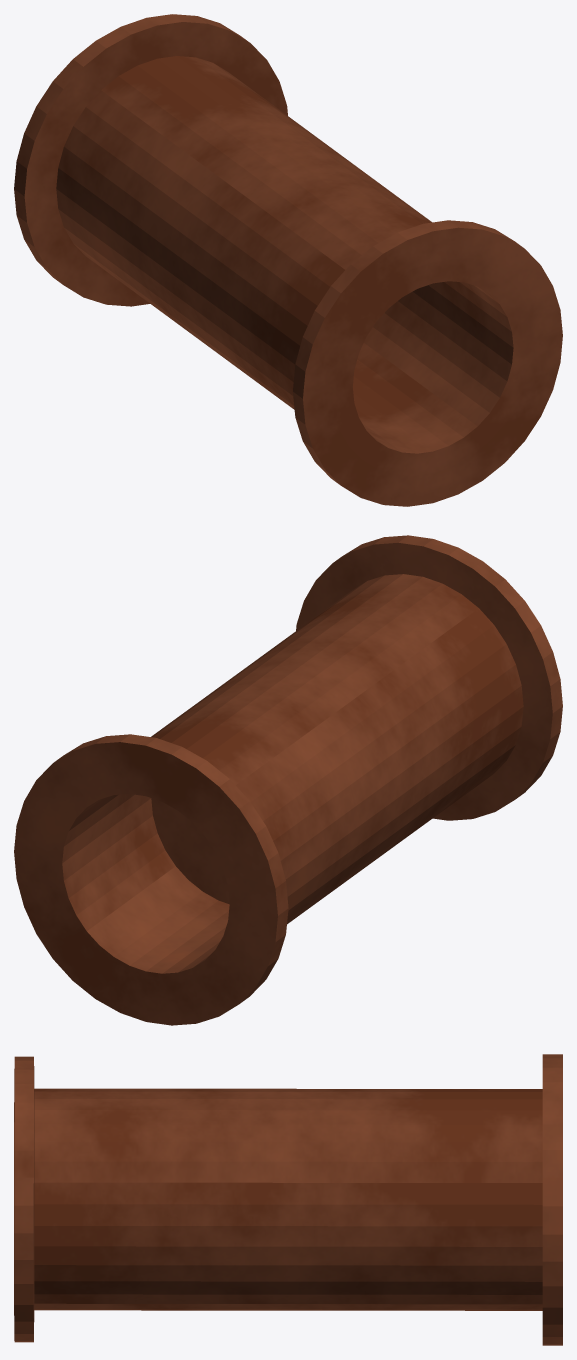
The model's file is Two end short straight pipe.glb.
3 renders of one model, top to bottom at view 1: azimuth 30°, elevation 25°; view 2: azimuth 150°, elevation 25°; view 3: azimuth 270°, elevation 25°, orthographic. The views are drawn at different scales.
Parts seen in each view (by area): view 1: Two end short straight pipe; view 2: Two end short straight pipe; view 3: Two end short straight pipe.
Boxes of the visible parts, x1=… form: Two end short straight pipe: x1=14, y1=14, x2=562, y2=506; Two end short straight pipe: x1=14, y1=535, x2=562, y2=1025; Two end short straight pipe: x1=14, y1=1054, x2=562, y2=1345.
Bounding box in the file's own units: 0.5298 × 0.5298 × 0.9968.
Materials: 1 (1 with a texture image).
